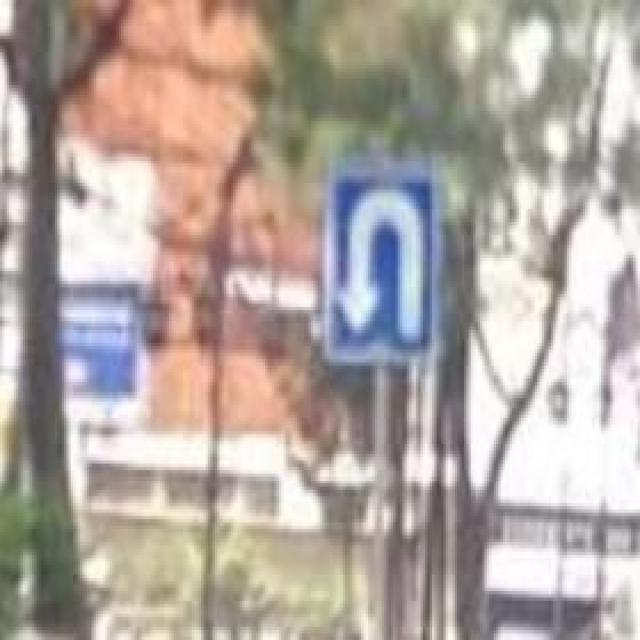U-turn: (329, 174, 434, 353)
